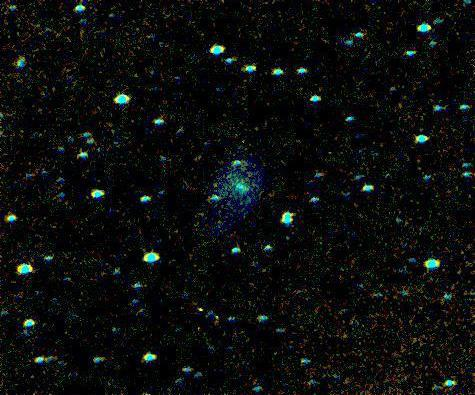star: (254, 184, 284, 214)
